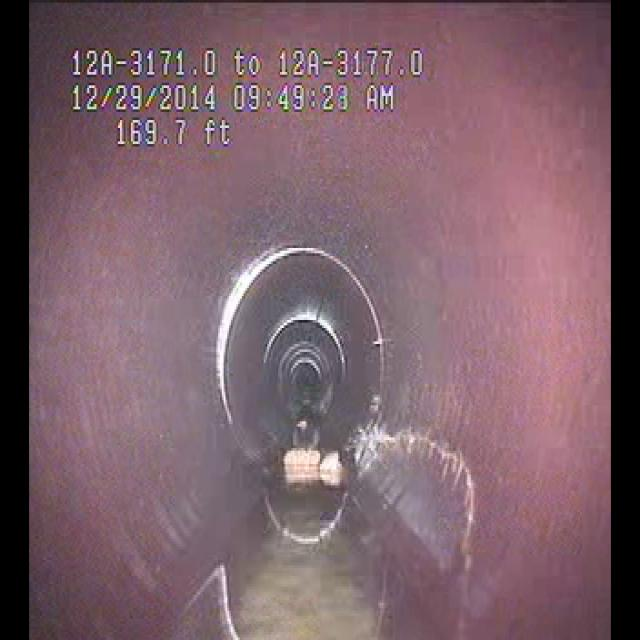Crack: (369, 407, 489, 548)
